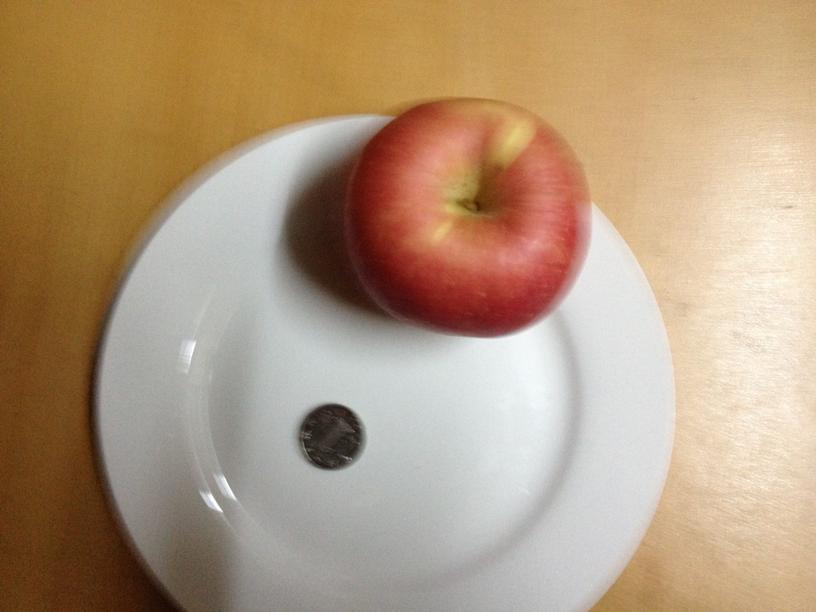apple: (344, 94, 591, 336)
coin: (295, 406, 363, 471)
